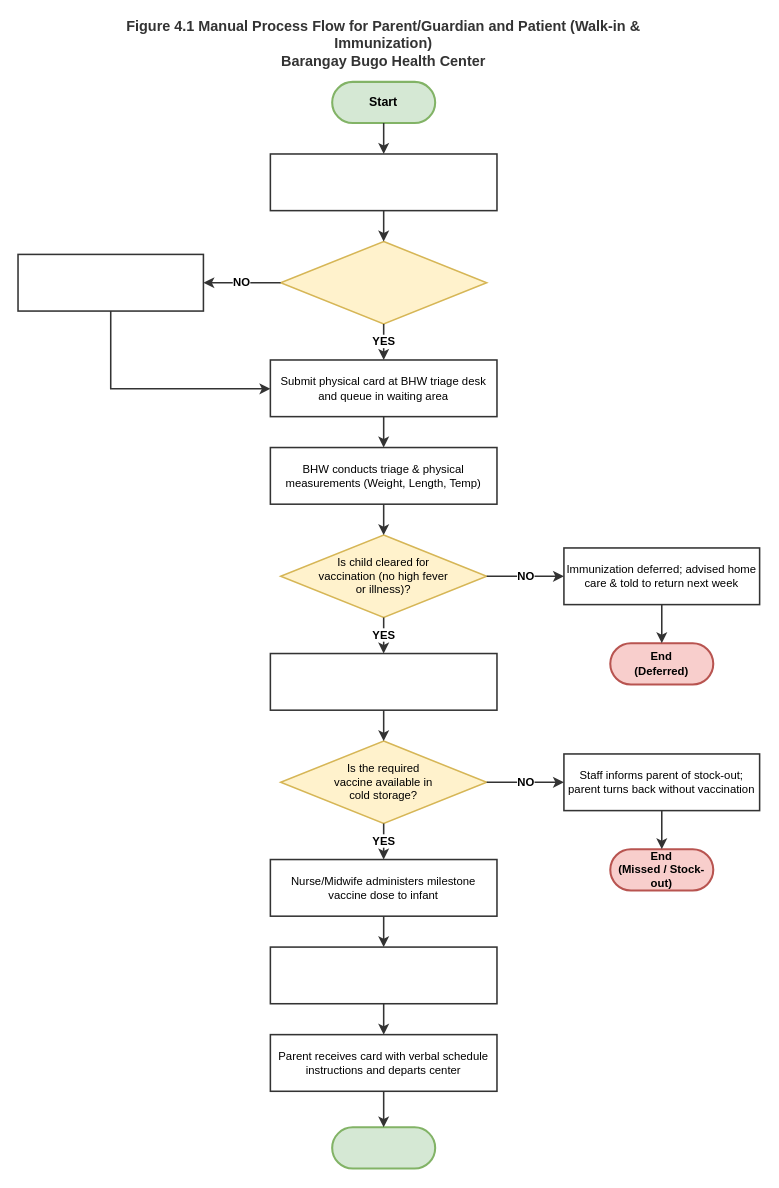
The diagram is 779 pixels wide and 1188 high, and some of its shapes have lost their labels. Each missing label, with the box of its shape:
BHW searches duplicate records or issues temporary replacement slip: (17, 253, 204, 311)
Does parent have the physical Baby's Health Record (EPI Card)?: (279, 240, 487, 324)
End: (331, 1126, 436, 1169)
Nurse handwrites date, batch/lot no., and next return schedule on paper card: (269, 946, 497, 1004)
Parent brings child to Barangay Bugo Health Center on immunization day: (269, 153, 497, 211)
Proceed to Nurse / Midwife consultation and vaccination table: (269, 652, 497, 710)
